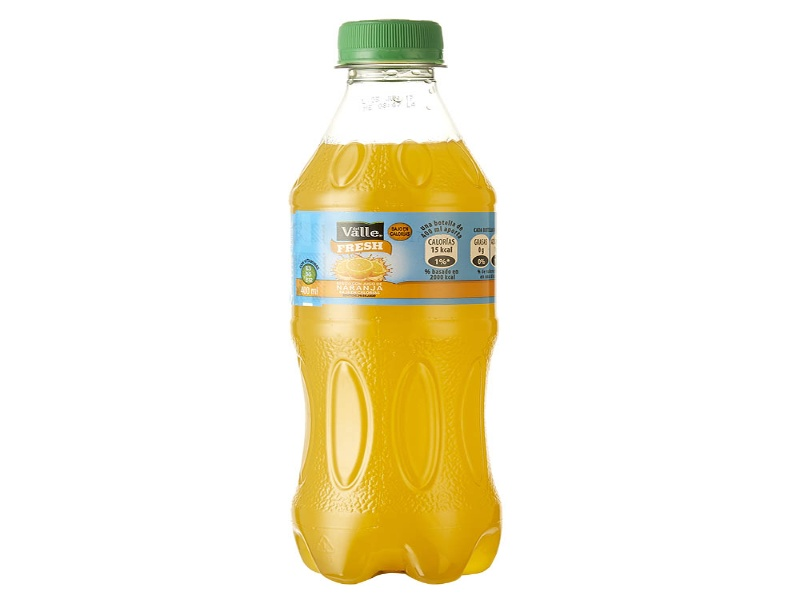Jugo de naranja: (292, 20, 501, 582)
